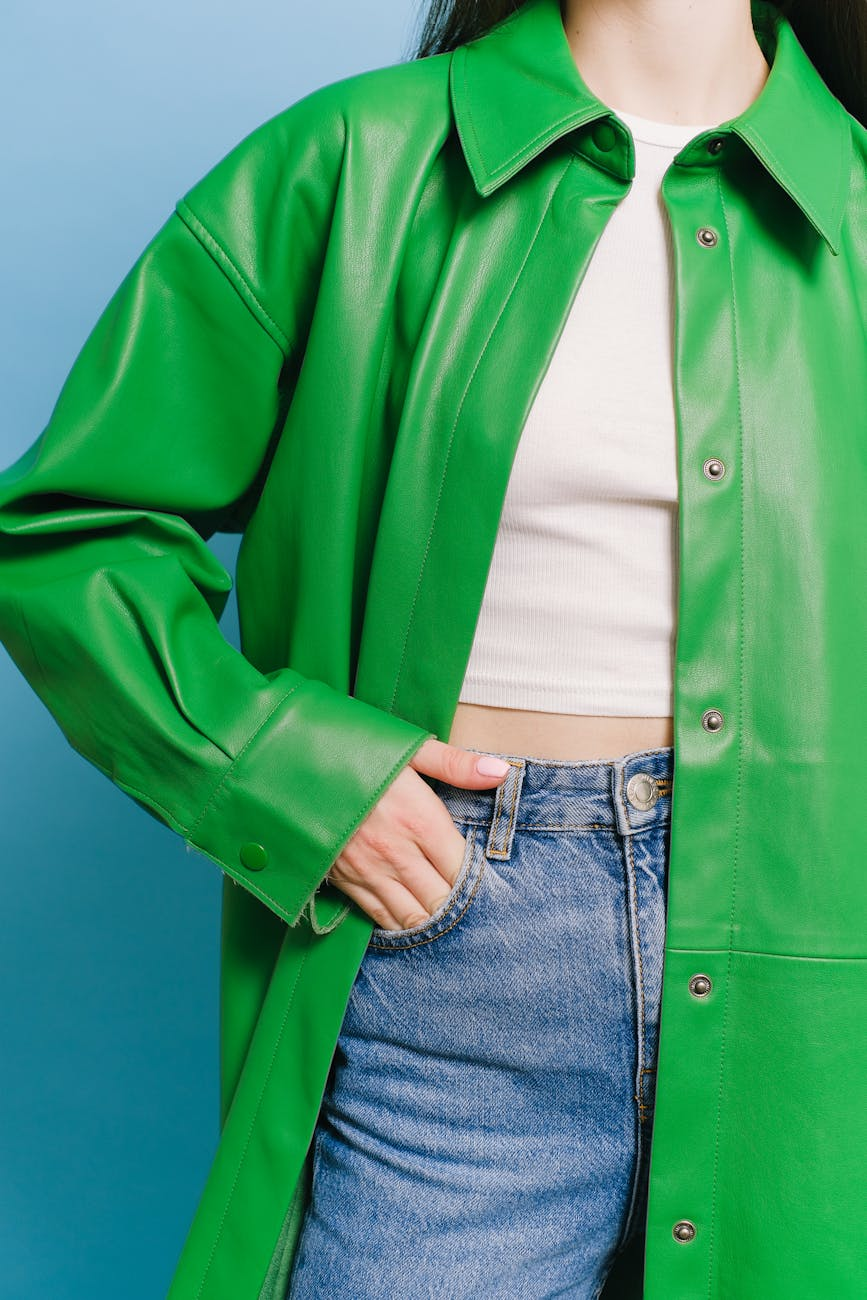crop_top: (332, 2, 867, 723)
